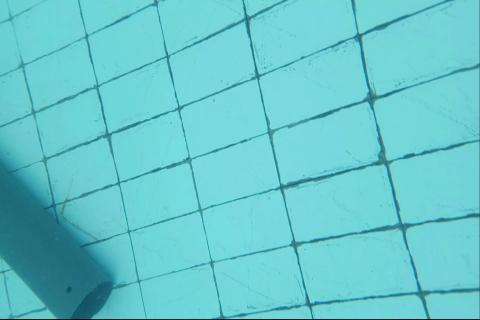kebocoran: (65, 284, 73, 295)
